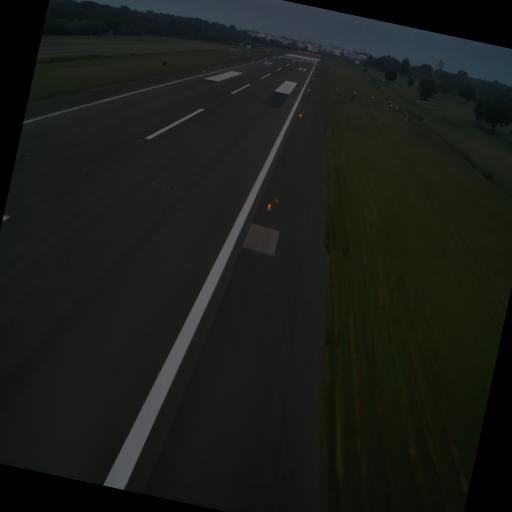off: (79, 164, 88, 176), (16, 148, 23, 160), (24, 151, 31, 162), (159, 181, 166, 190), (172, 182, 178, 192), (150, 179, 156, 188)
on: (264, 200, 273, 214)
